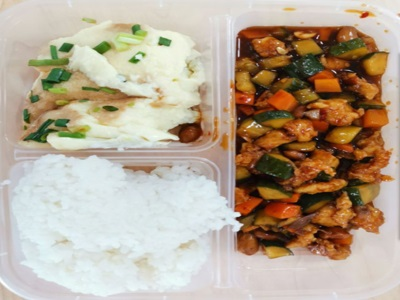gbjd: (243, 32, 381, 255)
jdg: (29, 23, 205, 146)
rice: (22, 163, 199, 288)
